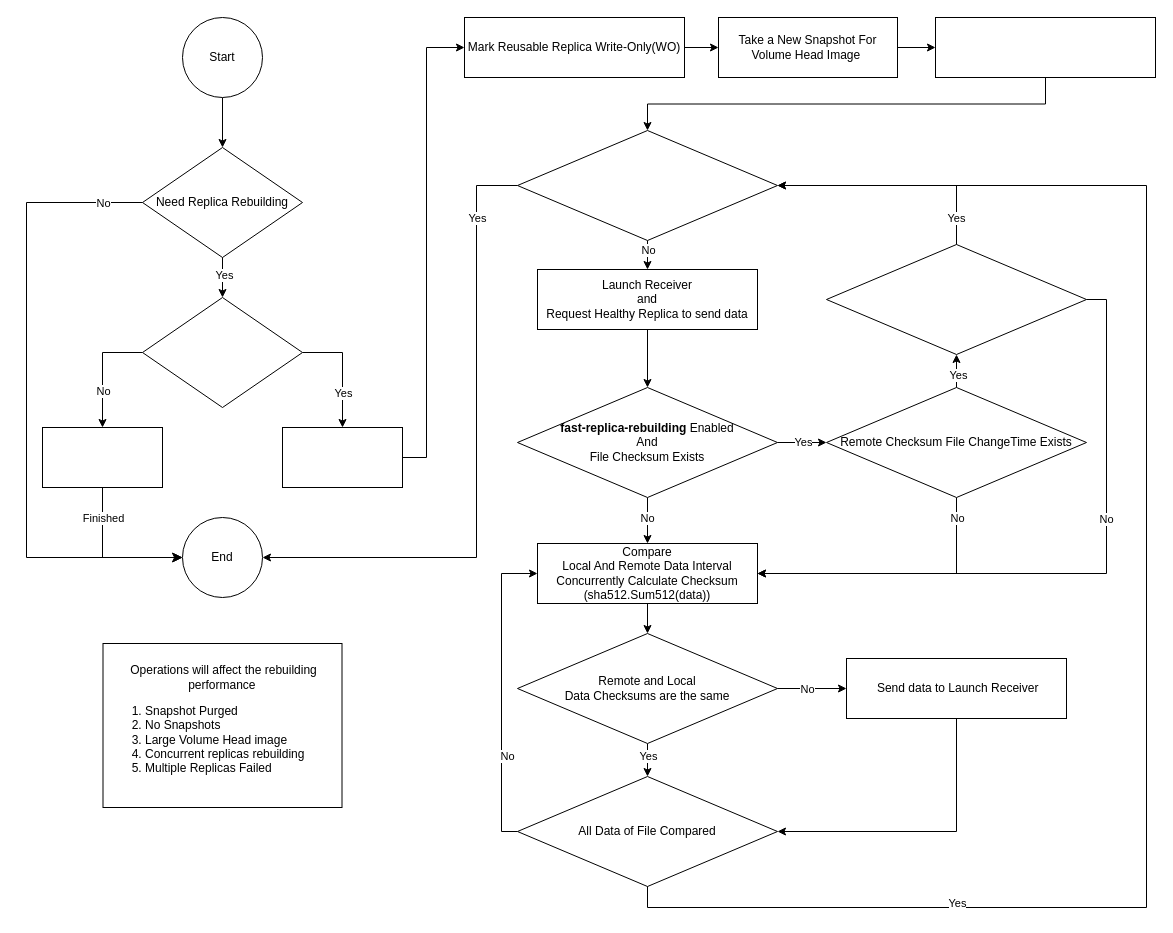
Image size: 1173x933. Some labels were removed from this diagram. Here are the shapes that lost their labels. From the top down, the box of each, then its label:
(934, 16, 1156, 78): Get Synchronizing Files List And Process The File in Synchronizing List
(516, 130, 778, 240): All Files Are Synchronized
(826, 244, 1086, 354): Remote and Local File Checksums are the same
(142, 296, 302, 408): Failed Replica Reusable
(42, 426, 162, 488): Full Replica Rebuilding
(282, 426, 402, 488): Delta Replica Rebuilding
